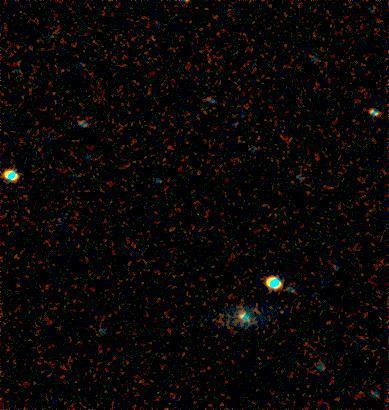star: (267, 303, 297, 333)
